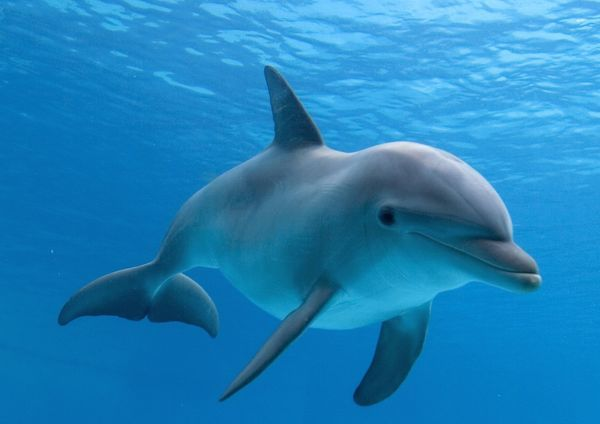dolphin: (49, 56, 585, 413)
